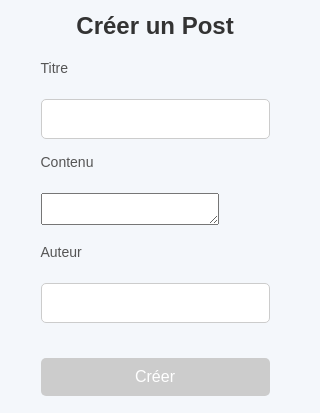
Test: PostForm › affiche le toastr d'erreur si addPost échoue
Type "Mon titre" into the field labelled "Titre" at (155,119), box 40,99 -> 270,139
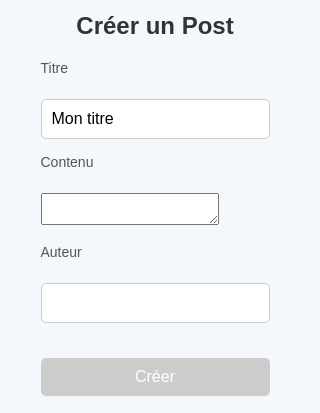
Type "Mon contenu" into the text box labelled "Contenu" at (130,209), box 40,193 -> 218,225
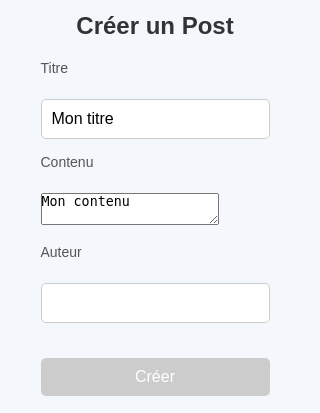
Type "Alice" into the field labelled "Auteur" at (155,303), box 40,283 -> 270,323
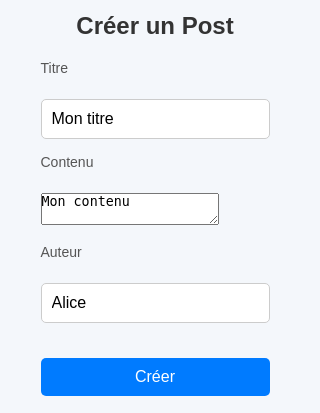
Click the button "Créer" at (155,377), box 40,358 -> 270,396
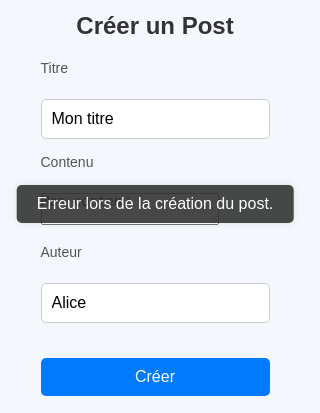
Check: the text "Erreur lors de la création du post." is shown, box 17,185 -> 293,223
